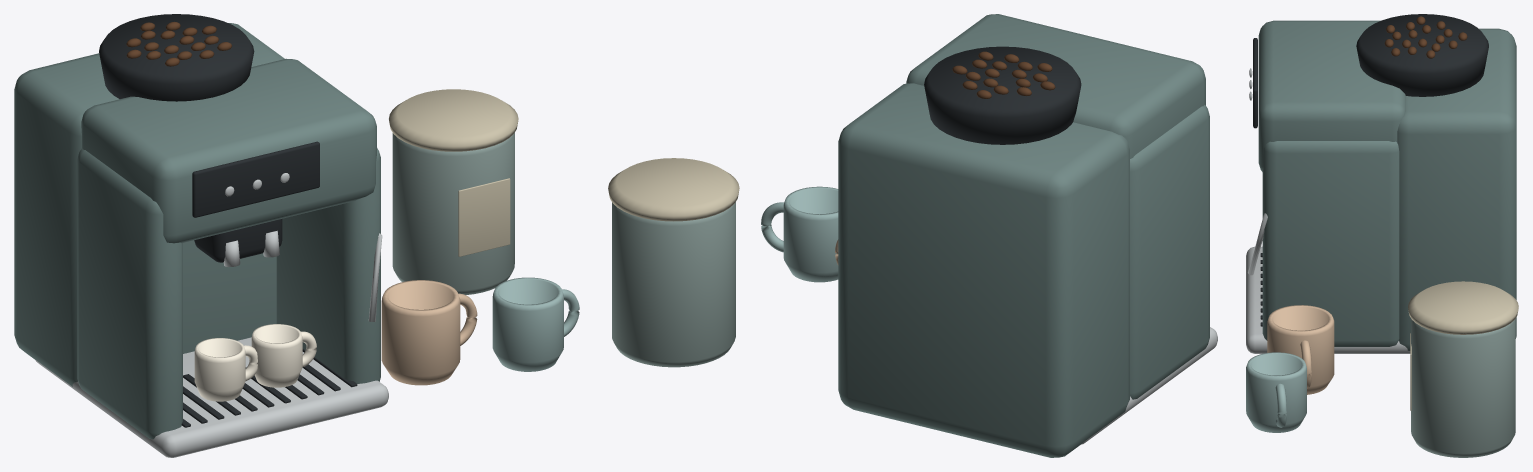
File: arr_coffee.glb
The picture shows the model from 3 angles, left to right: view 1: azimuth 30°, elevation 25°; view 2: azimuth 150°, elevation 25°; view 3: azimuth 270°, elevation 25°; orthographic projection. The views are drawn at different scales.
Visible parts, largest first — view 1: arr_coffee__coffee_automatic_body, arr_coffee__coffee_automatic_technical, arr_coffee__coffee_tin_body, arr_coffee__coffee_automatic_accent, arr_coffee__coffee_tin_accent, arr_coffee__mugs_body, arr_coffee__mugs_accent, arr_coffee__coffee_automatic_ceramic, arr_coffee__coffee_automatic_beans; view 2: arr_coffee__coffee_automatic_body, arr_coffee__coffee_tin_body, arr_coffee__coffee_automatic_technical, arr_coffee__coffee_tin_accent, arr_coffee__mugs_accent, arr_coffee__coffee_automatic_beans, arr_coffee__coffee_automatic_accent; view 3: arr_coffee__coffee_automatic_body, arr_coffee__coffee_tin_body, arr_coffee__coffee_automatic_technical, arr_coffee__coffee_tin_accent, arr_coffee__mugs_accent, arr_coffee__mugs_body, arr_coffee__coffee_automatic_accent, arr_coffee__coffee_automatic_beans.
Boxes of the visible parts, box(x1,y1,x2,y2) form: arr_coffee__coffee_automatic_body: box(14, 23, 380, 439); arr_coffee__coffee_automatic_technical: box(99, 14, 357, 427); arr_coffee__coffee_tin_body: box(392, 132, 514, 294); arr_coffee__coffee_automatic_accent: box(35, 173, 388, 457); arr_coffee__coffee_tin_accent: box(389, 89, 518, 256); arr_coffee__mugs_body: box(381, 280, 477, 385); arr_coffee__mugs_accent: box(492, 277, 579, 371); arr_coffee__coffee_automatic_ceramic: box(194, 324, 316, 401); arr_coffee__coffee_automatic_beans: box(126, 21, 231, 66); arr_coffee__coffee_automatic_body: box(838, 14, 1209, 457); arr_coffee__coffee_tin_body: box(612, 202, 735, 367); arr_coffee__coffee_automatic_technical: box(924, 46, 1081, 144); arr_coffee__coffee_tin_accent: box(608, 158, 739, 221); arr_coffee__mugs_accent: box(761, 186, 838, 282); arr_coffee__coffee_automatic_beans: box(952, 51, 1055, 98); arr_coffee__coffee_automatic_accent: box(1081, 327, 1217, 444); arr_coffee__coffee_automatic_body: box(1258, 20, 1516, 350); arr_coffee__coffee_tin_body: box(1411, 318, 1515, 457); arr_coffee__coffee_automatic_technical: box(1253, 14, 1488, 326); arr_coffee__coffee_tin_accent: box(1408, 281, 1518, 410); arr_coffee__mugs_accent: box(1246, 352, 1306, 432); arr_coffee__mugs_body: box(1267, 305, 1334, 394); arr_coffee__coffee_automatic_accent: box(1246, 68, 1410, 353); arr_coffee__coffee_automatic_beans: box(1384, 16, 1467, 58).
Size of the model in its own units: 0.5985 by 0.39 by 0.349.
